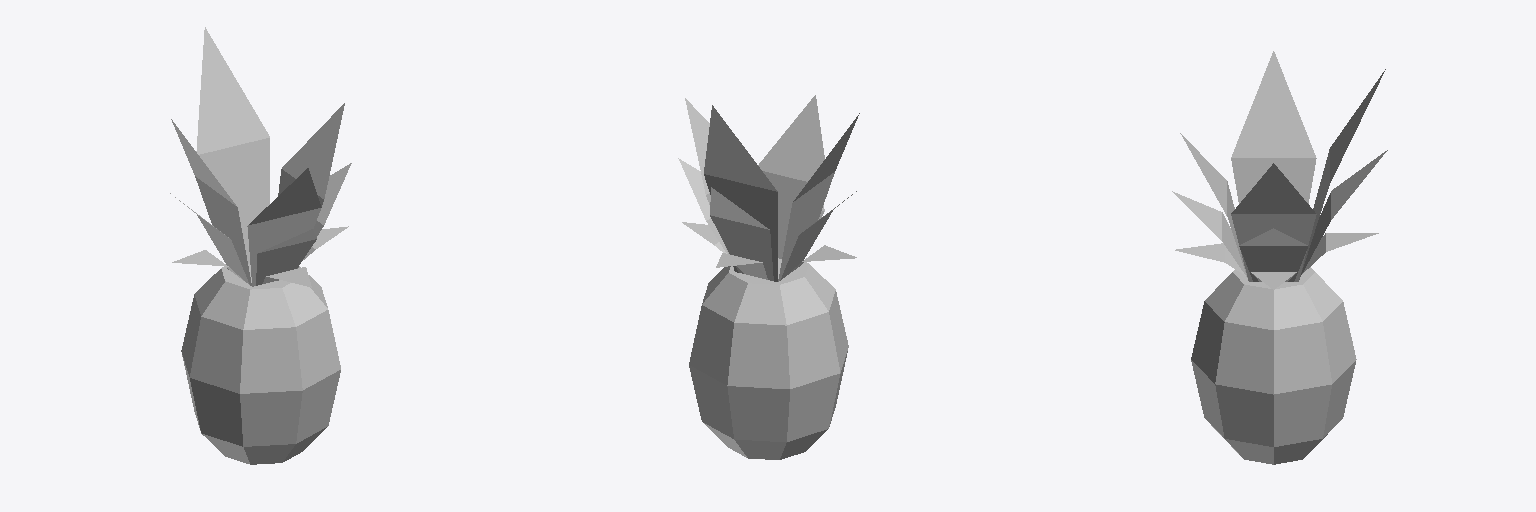
File: pineapple.obj
3 renders of one model, left to right at view 1: azimuth 30°, elevation 25°; view 2: azimuth 150°, elevation 25°; view 3: azimuth 270°, elevation 25°, orthographic.
Parts seen in each view (by area): view 1: pineapple; view 2: pineapple; view 3: pineapple.
Boxes of the visible parts, <box> form: pineapple: <box>170,27,351,464</box>; pineapple: <box>678,95,859,459</box>; pineapple: <box>1172,51,1387,464</box>.
Size of the model in its own units: 0.2412 by 0.4716 by 0.2448.